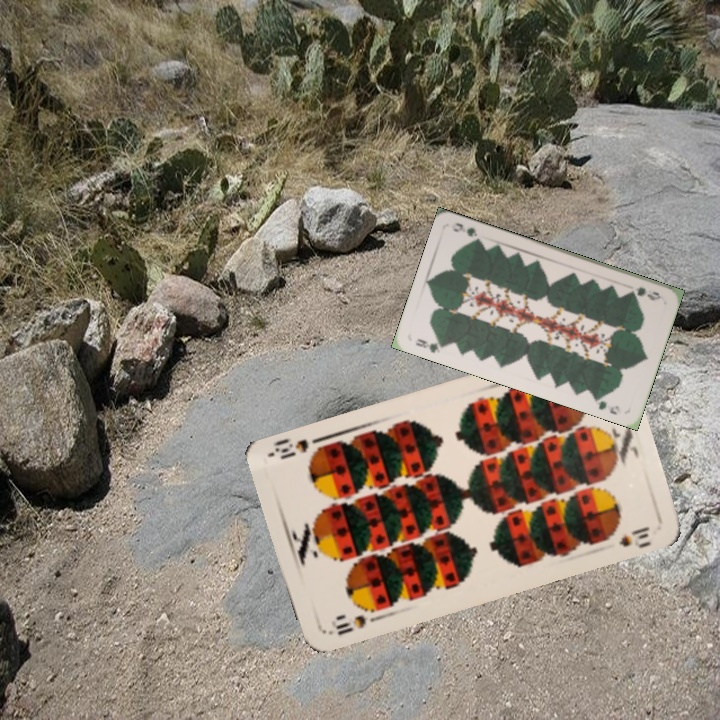G9: (412, 334, 450, 356), (625, 283, 663, 303)
S10: (331, 611, 369, 638)
